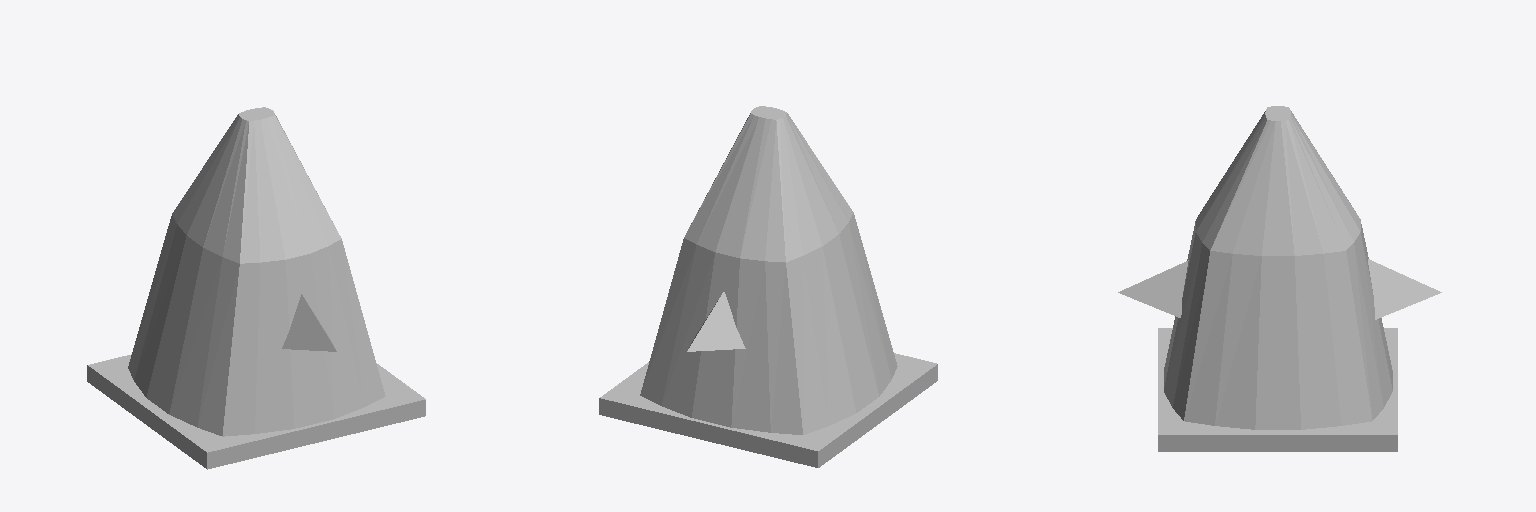
The model's file is rocket_frim.obj.
3 renders of one model, left to right at view 1: azimuth 30°, elevation 25°; view 2: azimuth 150°, elevation 25°; view 3: azimuth 270°, elevation 25°, orthographic.
Visible parts, largest first — view 1: Top, Bottom, Cone; view 2: Top, Bottom, Cone.001; view 3: Top, Bottom, Cone.001, Cone.
Part boxes in pixels (x1,y1,x2,y2): Top: (128,107,385,436); Bottom: (87,354,425,469); Cone: (282,294,336,351); Top: (640,106,897,434); Bottom: (599,353,937,467); Cone.001: (687,292,745,351); Top: (1164,106,1392,429); Bottom: (1158,328,1397,451); Cone.001: (1368,259,1441,319); Cone: (1118,260,1188,317).
Bounding box in the file's own units: 2.23 × 2.77 × 2.87.